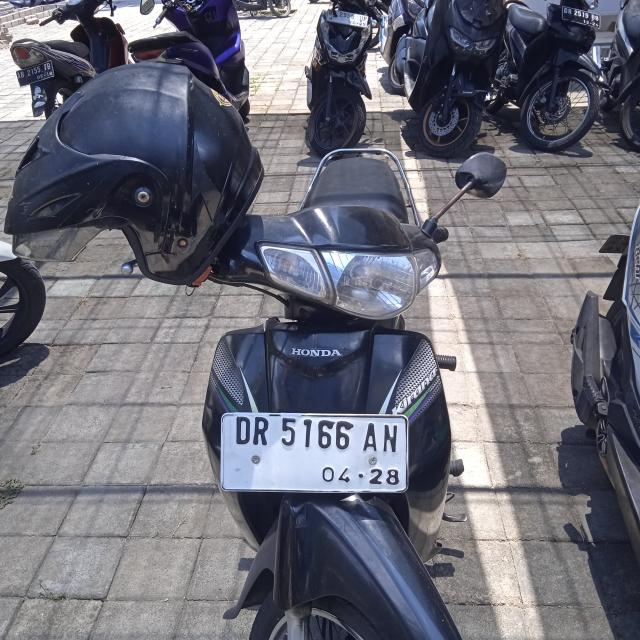plate: (220, 412, 408, 497), (14, 59, 55, 89), (561, 5, 600, 30), (326, 9, 369, 29)
